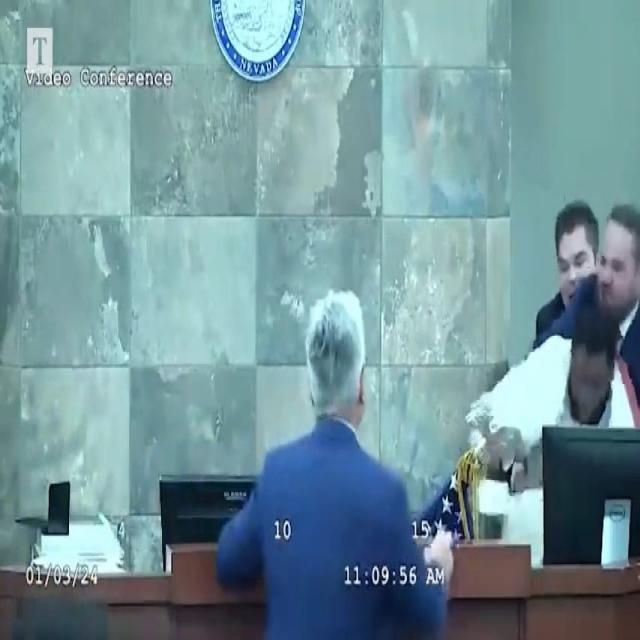fight: (476, 199, 640, 580)
non-fight: (215, 277, 462, 640)
